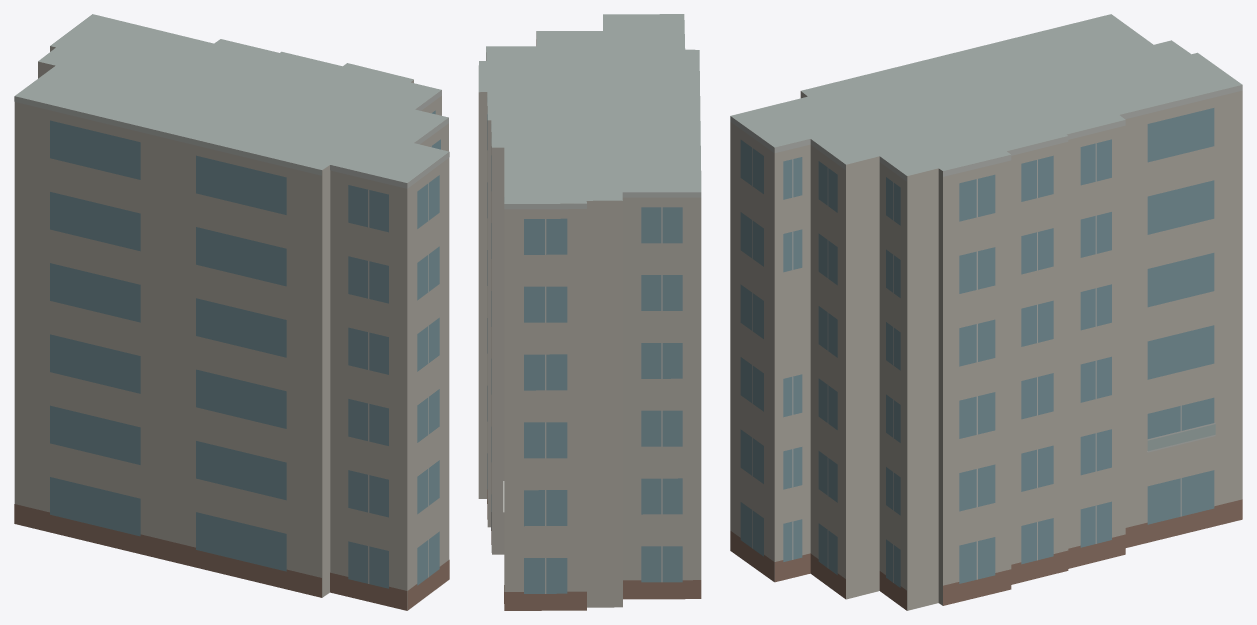
File: survey-upis-32972653.glb
The picture shows the model from 3 angles, left to right: view 1: azimuth 30°, elevation 25°; view 2: azimuth 150°, elevation 25°; view 3: azimuth 270°, elevation 25°; orthographic projection. The views are drawn at different scales.
Visible parts, largest first — view 1: survey-upis-32972653.tmp; view 2: survey-upis-32972653.tmp; view 3: survey-upis-32972653.tmp.
Boxes of the visible parts, left/top/right/bottom form: survey-upis-32972653.tmp: left=14, top=14, right=449, bottom=610; survey-upis-32972653.tmp: left=478, top=14, right=701, bottom=610; survey-upis-32972653.tmp: left=730, top=14, right=1242, bottom=610.
Bounding box in the file's own units: 14.72 × 18.4 × 19.66.
